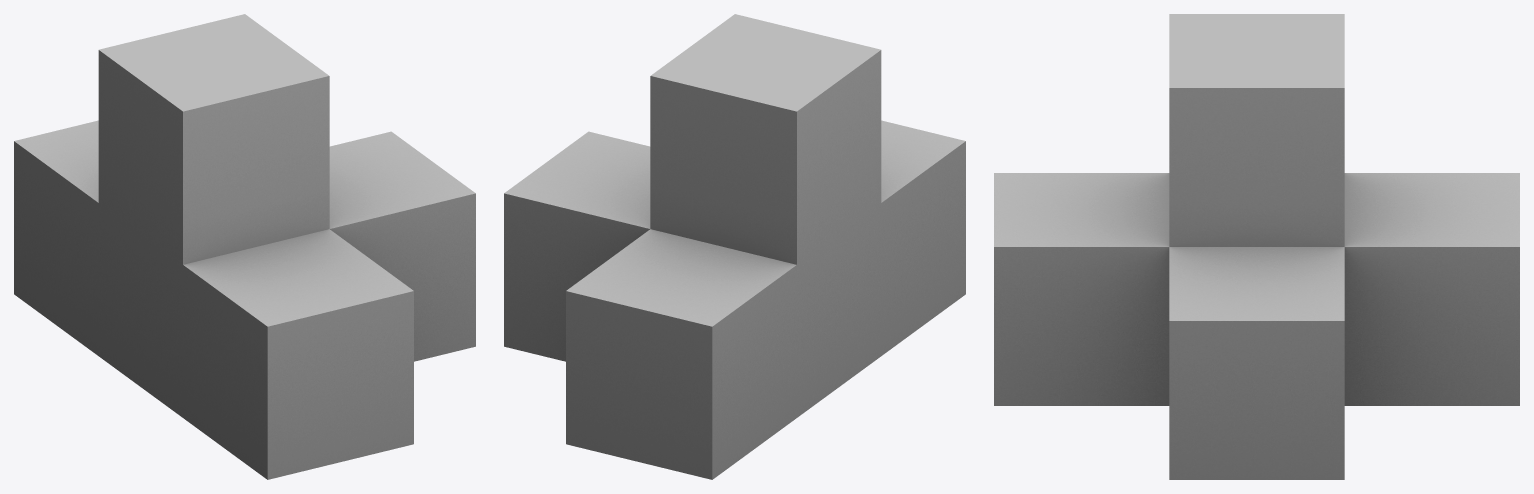
File: multiple-meshes-input.obj
3 views of the same model, side by side, from view 1: azimuth 30°, elevation 25°; view 2: azimuth 150°, elevation 25°; view 3: azimuth 270°, elevation 25° (orthographic). The views are drawn at different scales.
Visible parts, largest first — view 1: Cube.002_Cube.084; view 2: Cube.002_Cube.084; view 3: Cube.002_Cube.084.
Boxes of the visible parts, box(x1,y1,x2,y2) form: Cube.002_Cube.084: box(14, 14, 475, 479); Cube.002_Cube.084: box(504, 14, 965, 479); Cube.002_Cube.084: box(994, 14, 1519, 479).
Size of what is drawn, in the model's own units: 4 by 4 by 6.
Materials: 1 (1 with a texture image).
